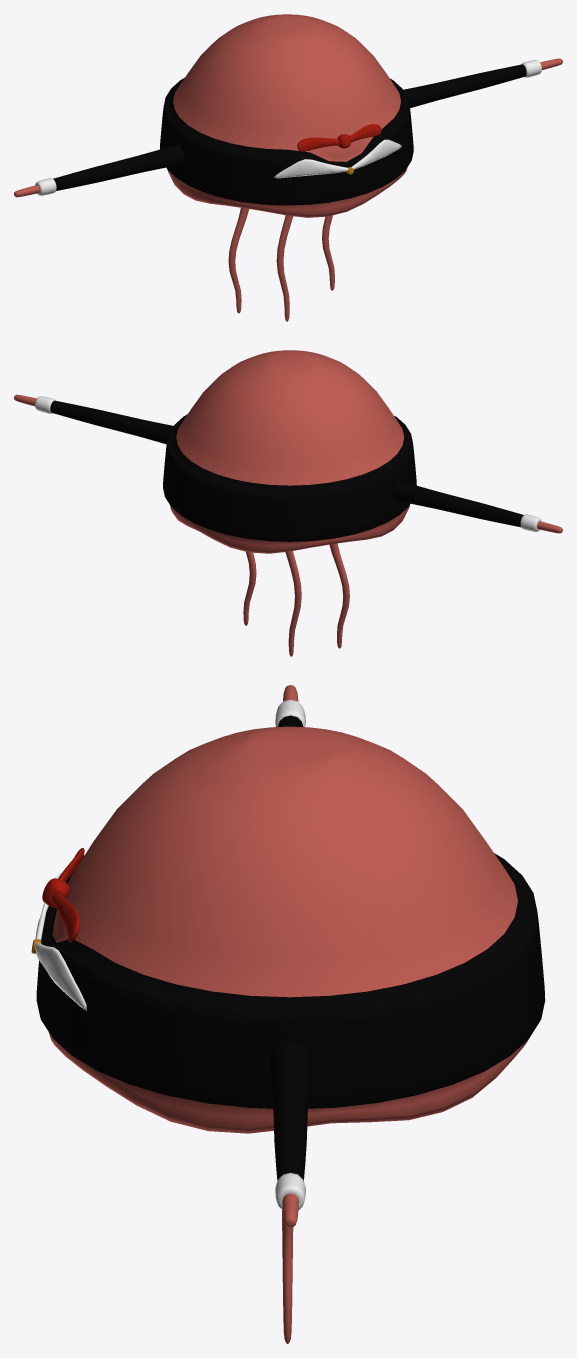
File: Jellyfish.fbx
3 renders of one model, top to bottom at view 1: azimuth 30°, elevation 25°; view 2: azimuth 150°, elevation 25°; view 3: azimuth 270°, elevation 25°, orthographic. The views are drawn at different scales.
Visible parts, largest first — view 1: Cylinder068, Cylinder077, Cylinder072, Cylinder074, Box001, Cylinder075, Cylinder070, Cylinder076; view 2: Cylinder068, Cylinder077, Cylinder072, Cylinder075, Cylinder070, Cylinder076; view 3: Cylinder068, Cylinder072, Cylinder074, Box001, Cylinder076, Cylinder077.
Boxes of the visible parts, x1,y1,x2,y2 form: Cylinder068: (160,14,413,217); Cylinder077: (14,144,184,197); Cylinder072: (403,58,562,108); Cylinder074: (274,139,401,178); Box001: (297,124,381,151); Cylinder075: (228,207,248,313); Cylinder070: (276,215,293,321); Cylinder076: (322,215,334,290); Cylinder068: (163,350,416,553); Cylinder077: (392,481,562,533); Cylinder072: (14,394,173,444); Cylinder075: (329,543,349,648); Cylinder070: (285,551,301,656); Cylinder076: (243,551,256,625); Cylinder068: (36,726,545,1133); Cylinder072: (269,1041,311,1227); Cylinder074: (31,873,86,1010); Box001: (42,848,84,942); Cylinder076: (282,1210,293,1343); Cylinder077: (275,685,305,726).
Bounding box in the file's own units: 71.51 × 36.89 × 29.04.
